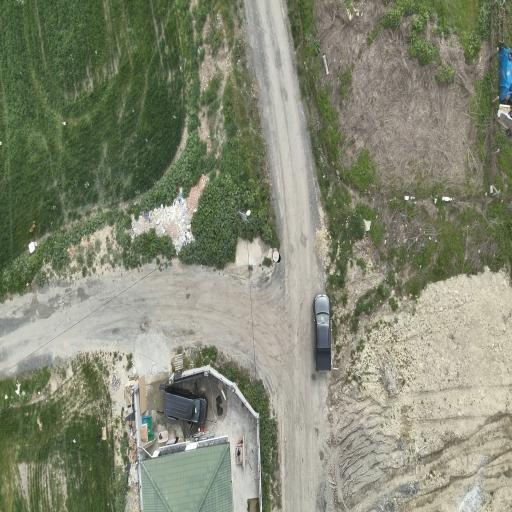car: (164, 387, 207, 424), (314, 294, 331, 371)
